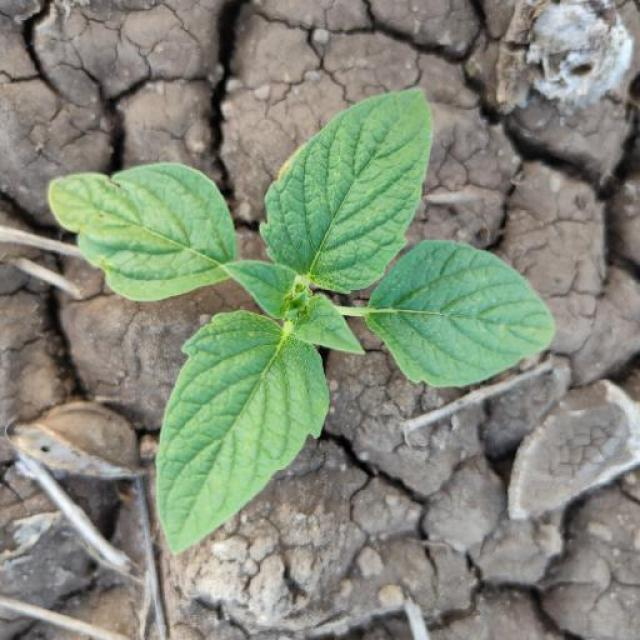crop: (45, 92, 570, 536)
